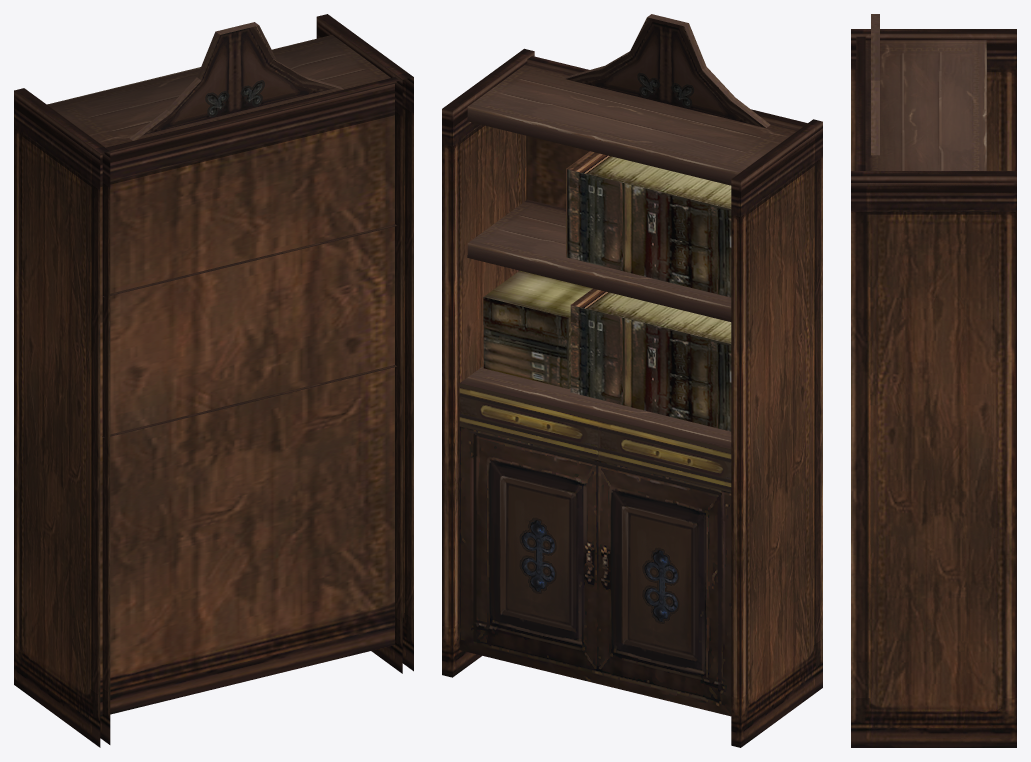
Rendered from furniture_k04.FBX.
3 views of the same model, side by side, from view 1: azimuth 30°, elevation 25°; view 2: azimuth 150°, elevation 25°; view 3: azimuth 270°, elevation 25° (orthographic). The views are drawn at different scales.
Visible parts, largest first — view 1: furniture_k04; view 2: furniture_k04; view 3: furniture_k04.
Boxes of the visible parts, box(x1,y1,x2,y2) form: furniture_k04: box(14, 14, 413, 747); furniture_k04: box(442, 14, 822, 747); furniture_k04: box(851, 14, 1016, 747).
Bounding box in the file's own units: 1.43 × 2.93 × 0.6796.
Materials: 1 (1 with a texture image).
